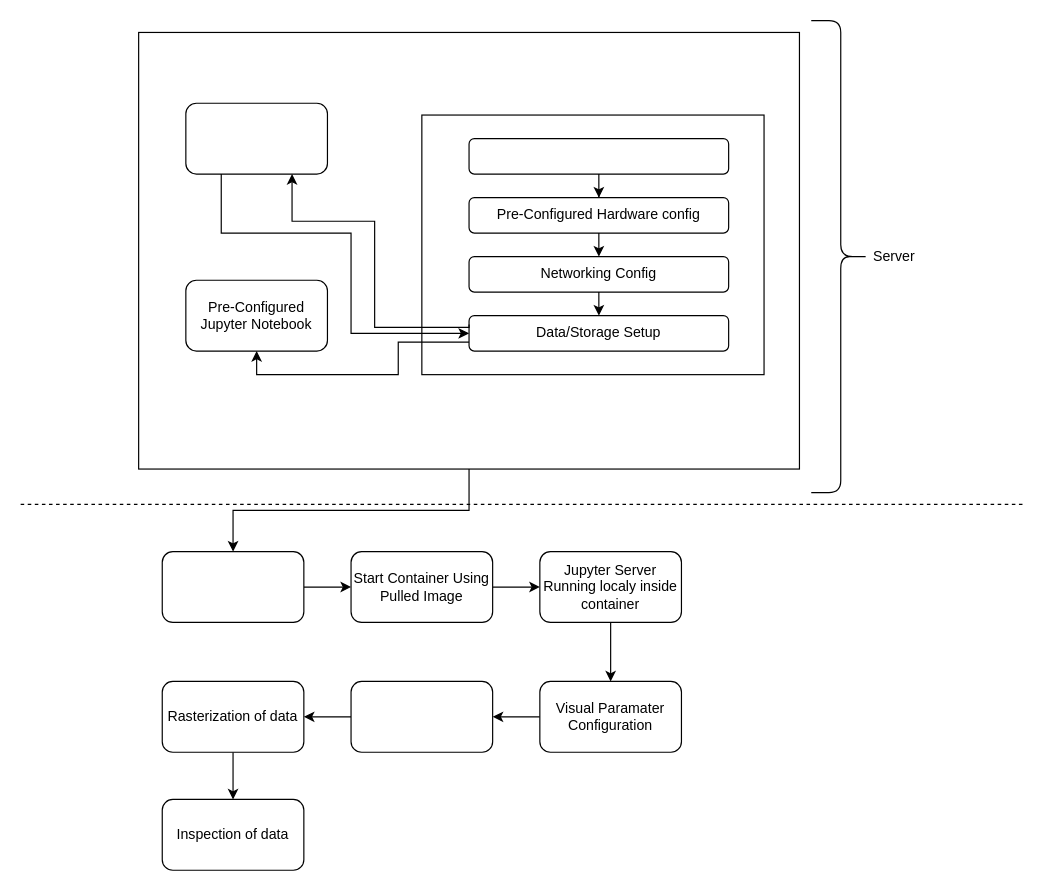
The diagram is 1045 pixels wide and 891 high, and some of its shapes have lost their labels. The box of each missing label's shape, as (x1, y1, x2, y2) in pixels:
Graphical representation of data: (350, 680, 493, 752)
Jupyter Server: (468, 137, 729, 174)
Pre-Processed Data: (185, 102, 327, 174)
Pull OCI Image from registry: (161, 550, 304, 622)
